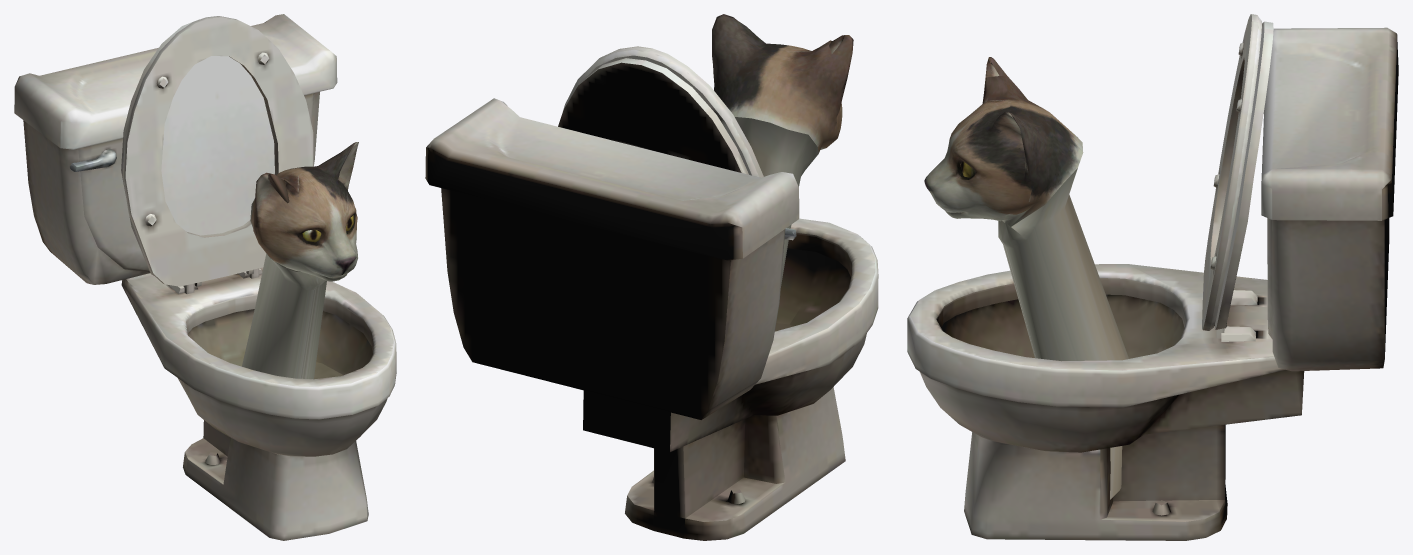
Rendered from building_6.fbx.
3 renders of one model, left to right at view 1: azimuth 30°, elevation 25°; view 2: azimuth 150°, elevation 25°; view 3: azimuth 270°, elevation 25°, orthographic. The views are drawn at different scales.
Visible parts, largest first — view 1: toilet_c; view 2: toilet_c; view 3: toilet_c.
Boxes of the visible parts, left/top/right/bottom form: toilet_c: left=14, top=14, right=396, bottom=540; toilet_c: left=425, top=14, right=878, bottom=540; toilet_c: left=907, top=14, right=1398, bottom=540.
Bounding box in the file's own units: 625 × 918 × 831.
